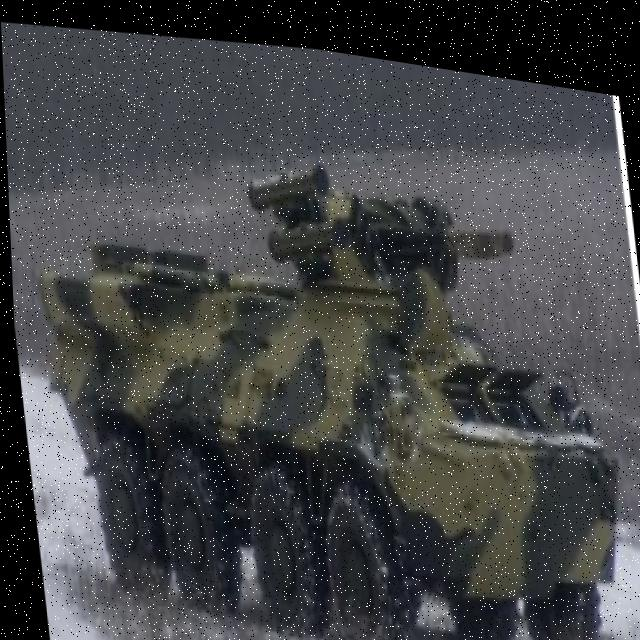MIL_APC: (4, 121, 640, 640)
